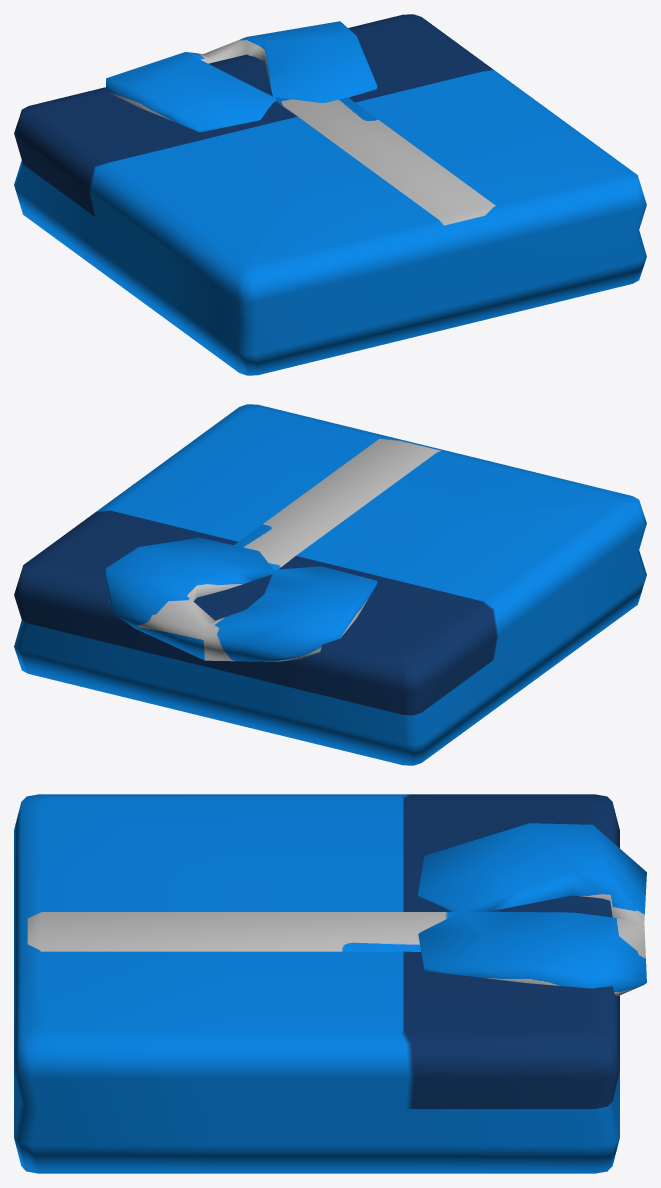
Rendered from Clothes.fbx.
3 renders of one model, top to bottom at view 1: azimuth 30°, elevation 25°; view 2: azimuth 150°, elevation 25°; view 3: azimuth 270°, elevation 25°, orthographic. The views are drawn at different scales.
Visible parts, largest first — view 1: ClothesD; view 2: ClothesD; view 3: ClothesD.
Boxes of the visible parts, box(x1,y1,x2,y2) form: ClothesD: box(14, 14, 646, 375); ClothesD: box(14, 404, 646, 765); ClothesD: box(14, 794, 646, 1173).
Size of the model in its own units: 0.6107 by 0.1769 by 0.638.
